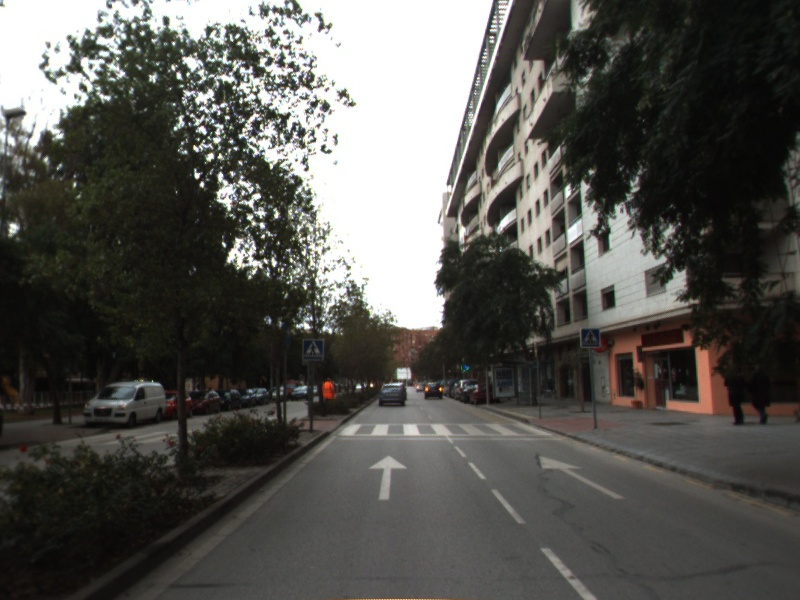STRAIGHT: (536, 453, 630, 501), (366, 452, 410, 502)
